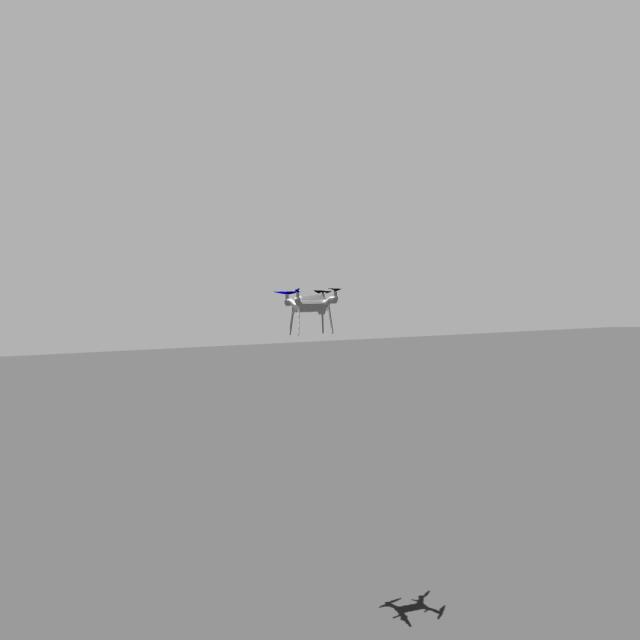Drone: (272, 278, 344, 339)
